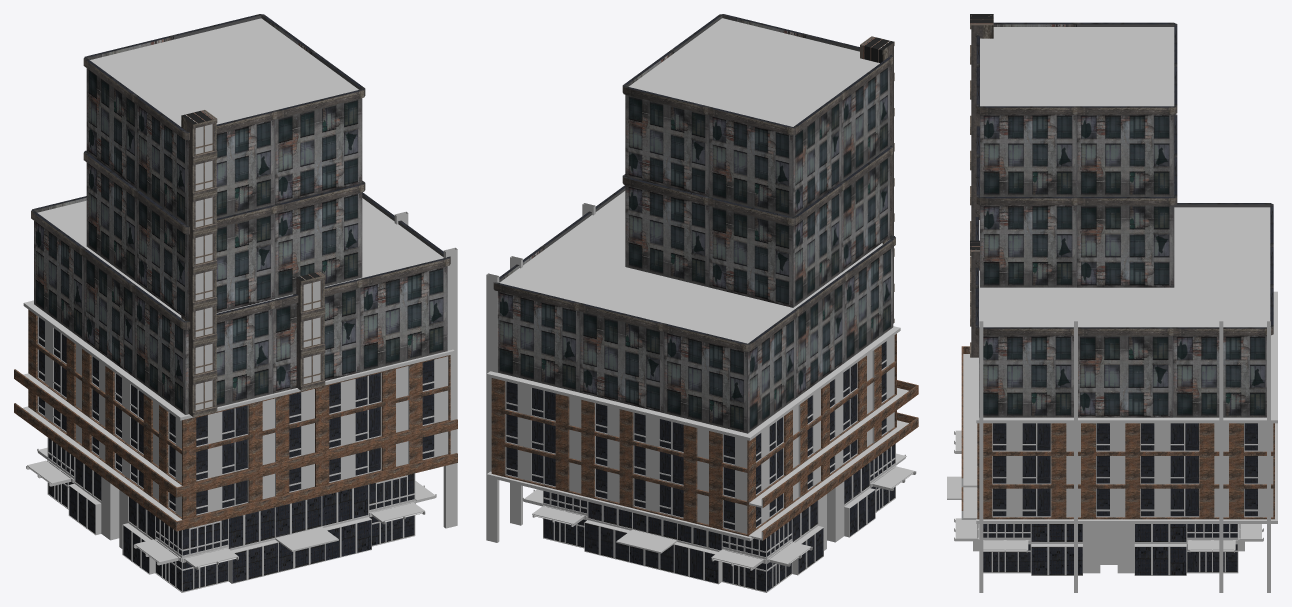
The model's file is SM_Building_05.FBX.
3 views of the same model, side by side, from view 1: azimuth 30°, elevation 25°; view 2: azimuth 150°, elevation 25°; view 3: azimuth 270°, elevation 25° (orthographic). The views are drawn at different scales.
Visible parts, largest first — view 1: SM_Building_05_LOD0; view 2: SM_Building_05_LOD0; view 3: SM_Building_05_LOD0.
Boxes of the visible parts, x1,y1,x2,y2 form: SM_Building_05_LOD0: (14,14,457,592); SM_Building_05_LOD0: (486,14,918,592); SM_Building_05_LOD0: (947,14,1277,592).
Size of what is drawn, in the model's own units: 51.4 by 77.47 by 51.33.
